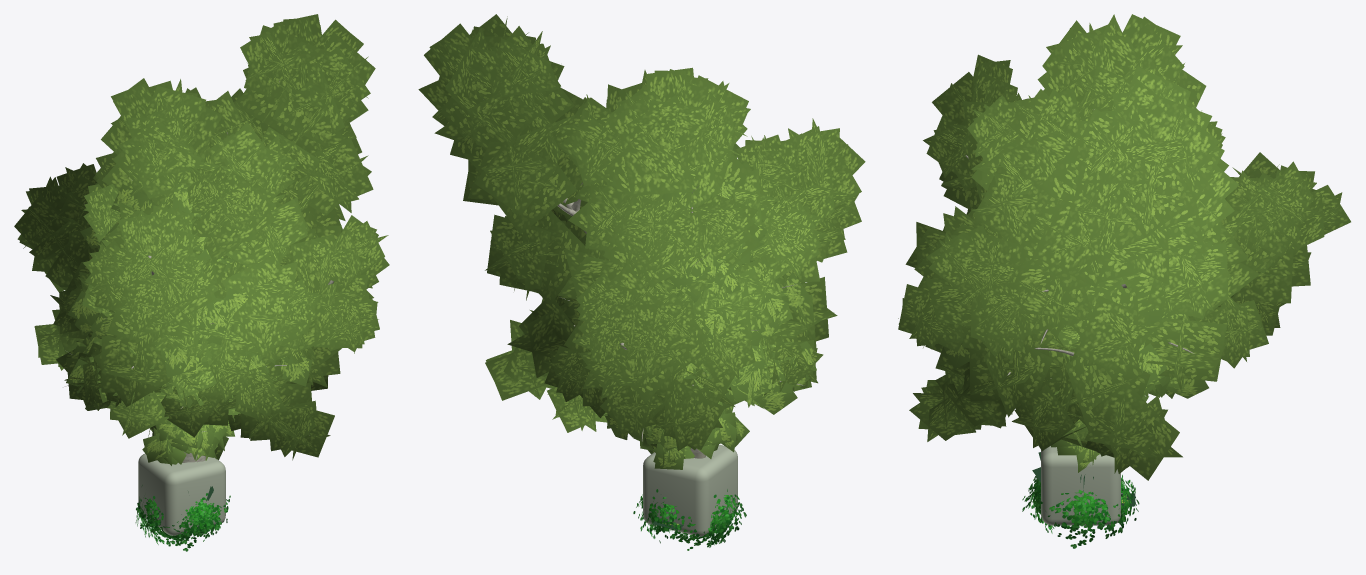
The model's file is elsa_environment_set.glb.
3 views of the same model, side by side, from view 1: azimuth 30°, elevation 25°; view 2: azimuth 150°, elevation 25°; view 3: azimuth 270°, elevation 25° (orthographic). The views are drawn at different scales.
Visible parts, largest first — view 1: Esther-holly-oak-C, Esther-holly-oak-B, Esther-holly-oak-A, Esther-birch-2, normals tranfer target, Esther-tree-1, Bush A; view 2: Esther-holly-oak-C, Esther-holly-oak-B, Esther-birch-2, Esther-holly-oak-A, normals tranfer target, Bush A, Esther-tree-1; view 3: Esther-holly-oak-C, Esther-holly-oak-B, Esther-holly-oak-A, normals tranfer target, Bush A, Esther-birch-2, Esther-tree-1.
Boxes of the visible parts, left/top/right/bottom form: Esther-holly-oak-C: left=52, top=14, right=375, bottom=462; Esther-holly-oak-B: left=14, top=152, right=389, bottom=460; Esther-holly-oak-A: left=82, top=150, right=285, bottom=438; Esther-birch-2: left=56, top=178, right=312, bottom=423; normals tranfer target: left=138, top=453, right=225, bottom=535; Esther-tree-1: left=142, top=420, right=234, bottom=465; Bush A: left=135, top=485, right=230, bottom=551; Esther-holly-oak-C: left=418, top=14, right=837, bottom=406; Esther-holly-oak-B: left=543, top=118, right=865, bottom=458; Esther-birch-2: left=559, top=143, right=816, bottom=450; Esther-holly-oak-A: left=588, top=156, right=811, bottom=436; normals tranfer target: left=643, top=444, right=737, bottom=536; Bush A: left=633, top=489, right=746, bottom=550; Esther-tree-1: left=633, top=406, right=749, bottom=469; Esther-holly-oak-C: left=905, top=14, right=1259, bottom=480; Esther-holly-oak-B: left=898, top=54, right=1350, bottom=457; Esther-holly-oak-A: left=967, top=95, right=1184, bottom=448; normals tranfer target: left=1041, top=446, right=1120, bottom=525; Bush A: left=1022, top=475, right=1139, bottom=548; Esther-birch-2: left=943, top=197, right=1208, bottom=401; Esther-tree-1: left=1051, top=439, right=1100, bottom=472.
Bounding box in the file's own units: 14.42 × 19.72 × 15.
Materials: 14 (13 with a texture image).
